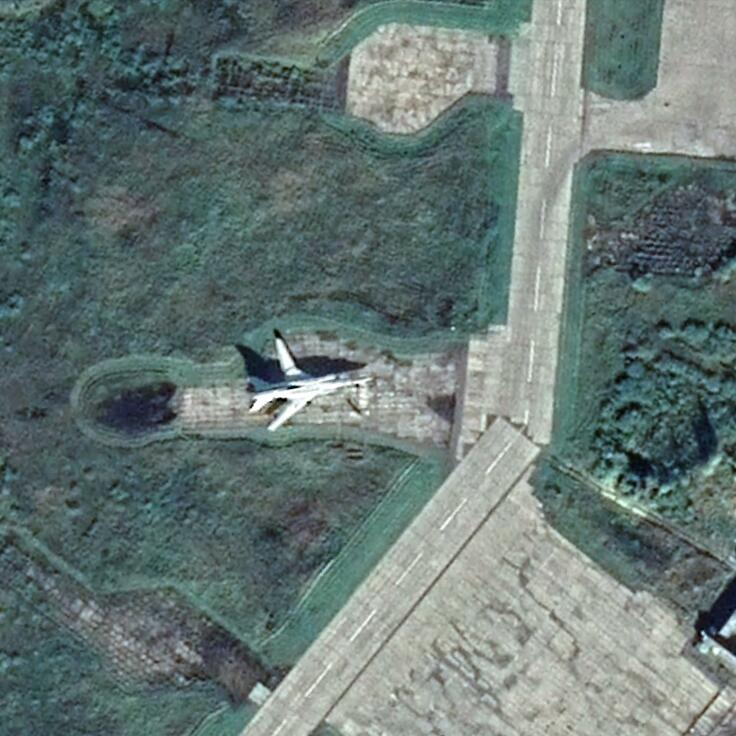A12: (245, 336, 375, 433)
